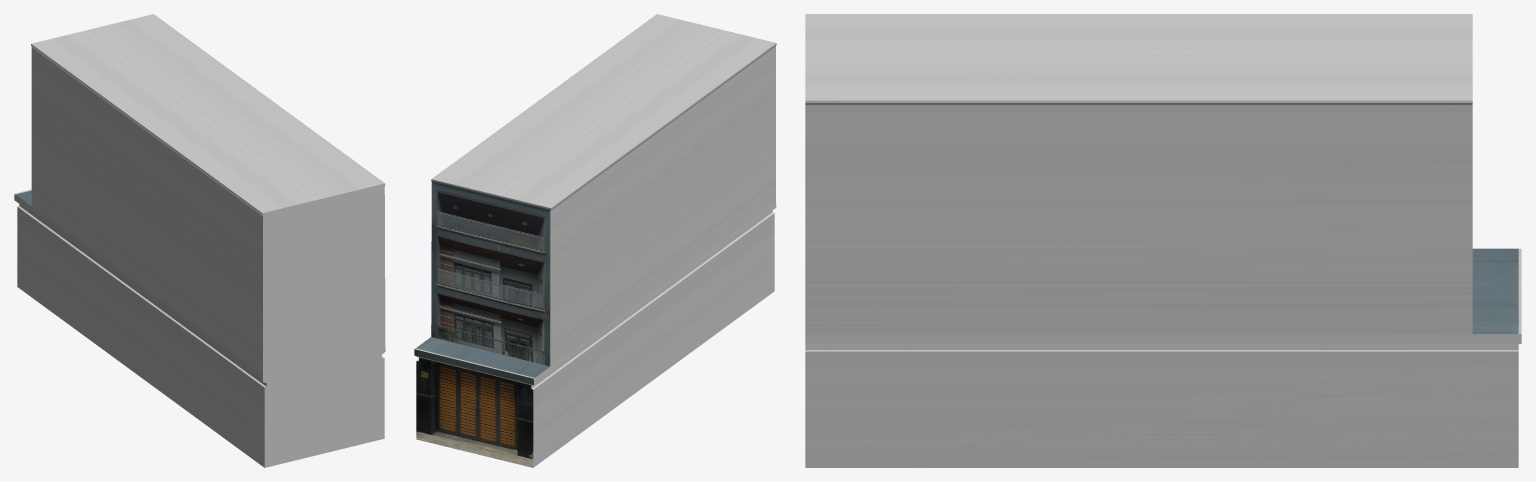
Rendered from RefHouse6.fbx.
3 renders of one model, left to right at view 1: azimuth 30°, elevation 25°; view 2: azimuth 150°, elevation 25°; view 3: azimuth 270°, elevation 25°, orthographic. The views are drawn at different scales.
Parts seen in each view (by area): view 1: ReferenceHouse6; view 2: ReferenceHouse6; view 3: ReferenceHouse6.
Boxes of the visible parts, box(x1,y1,x2,y2) form: ReferenceHouse6: box(14, 14, 385, 467); ReferenceHouse6: box(414, 14, 776, 467); ReferenceHouse6: box(805, 14, 1521, 467).
Bounding box in the file's own units: 572 × 1133 × 1999.
2 materials, 2 textured.
